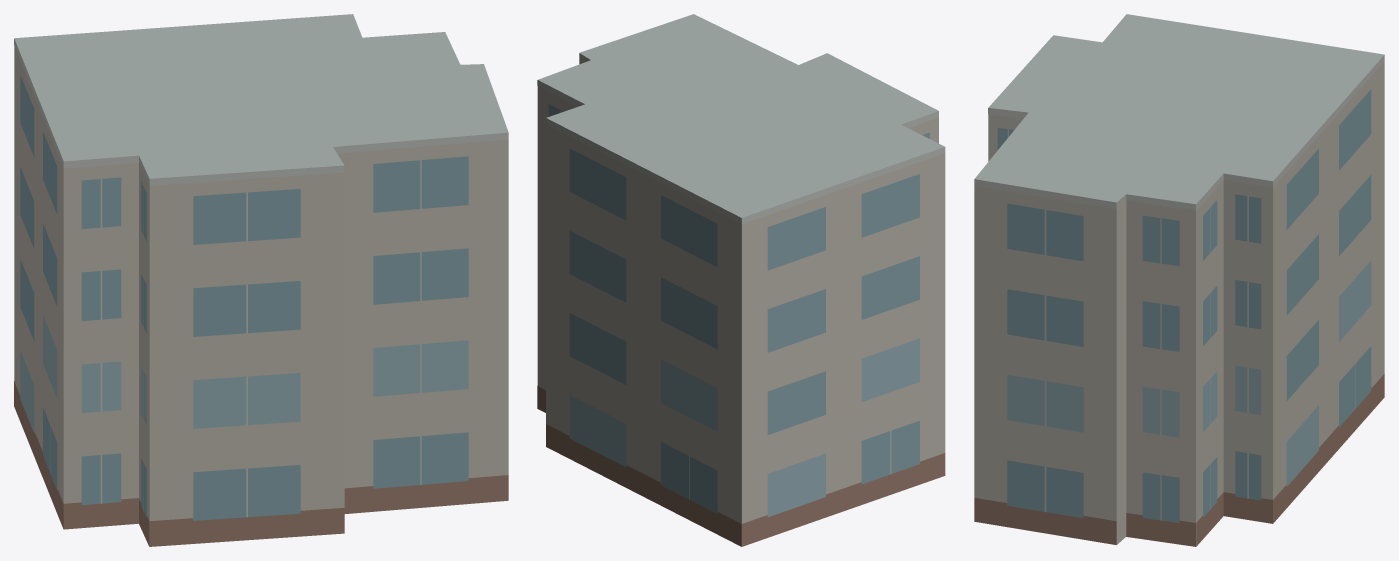
The model's file is survey-upis-32755470.glb.
3 views of the same model, side by side, from view 1: azimuth 30°, elevation 25°; view 2: azimuth 150°, elevation 25°; view 3: azimuth 270°, elevation 25° (orthographic). The views are drawn at different scales.
Parts seen in each view (by area): view 1: survey-upis-32755470.tmp; view 2: survey-upis-32755470.tmp; view 3: survey-upis-32755470.tmp.
Part boxes in pixels (x1,y1,x2,y2): survey-upis-32755470.tmp: (14,14,508,546); survey-upis-32755470.tmp: (537,14,945,546); survey-upis-32755470.tmp: (974,14,1384,546).
Bounding box in the file's own units: 15.26 × 12.8 × 13.9.
